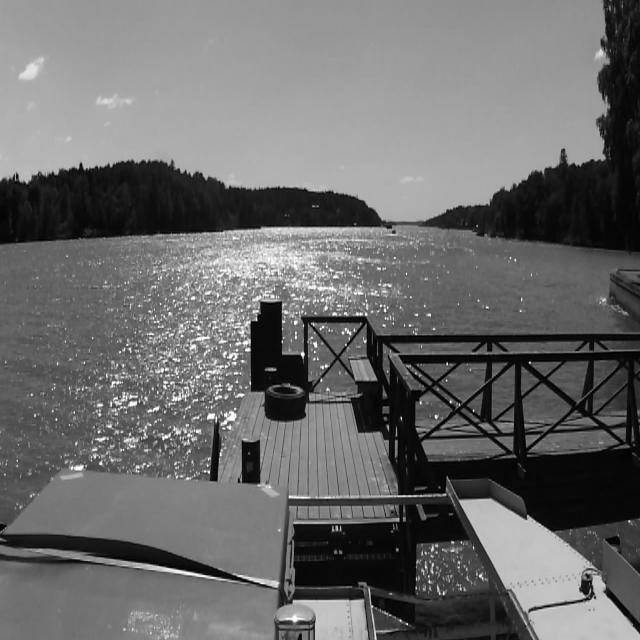ship: (391, 228, 397, 236)
